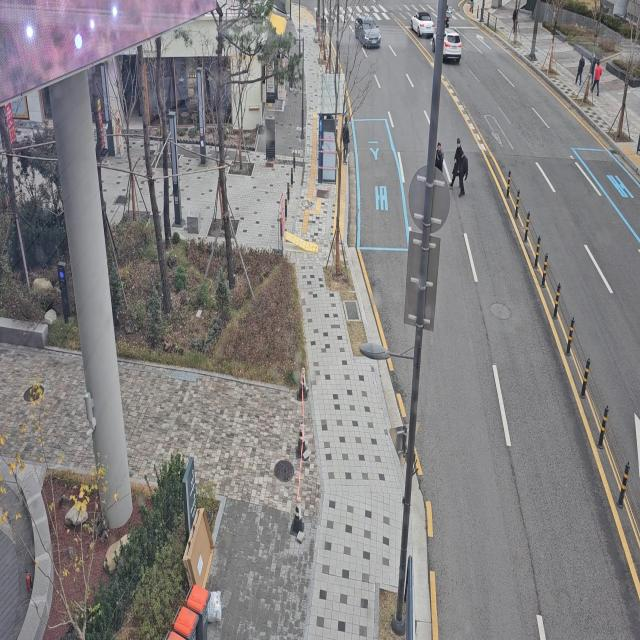Car: (352, 11, 388, 55), (430, 25, 473, 60), (408, 6, 440, 43)
Motorcycle: (444, 2, 458, 28)
